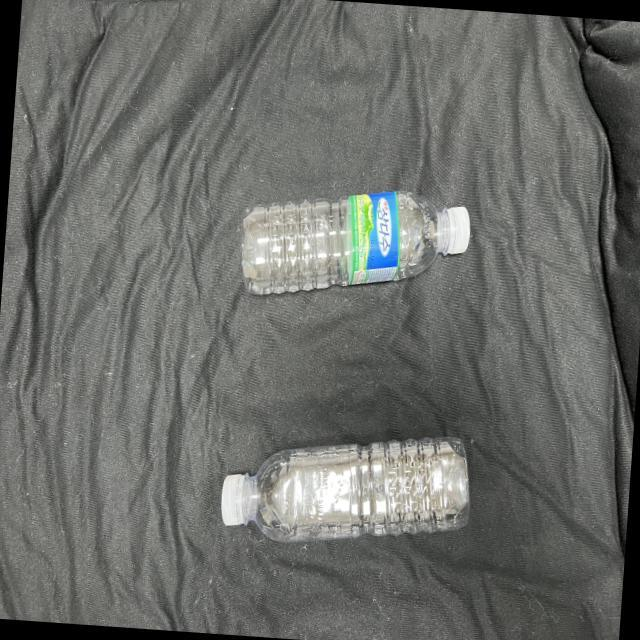good: (207, 420, 485, 553), (231, 180, 484, 295)
